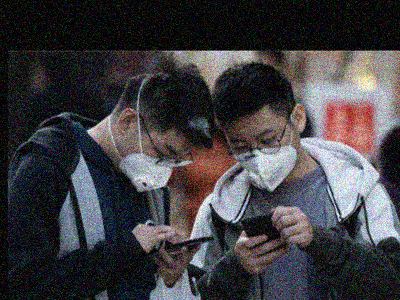with_mask: (227, 123, 301, 183), (119, 137, 183, 194)
